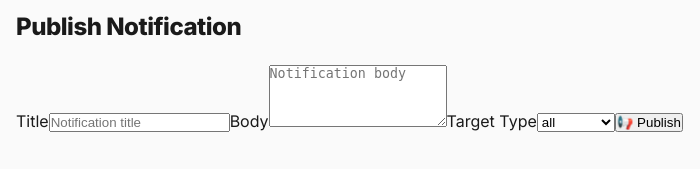
Test: AdminNotifications › publishes notification successfully
This screenshot has width=700, height=169.
In the field named "Notification title": (139, 122) left=49, top=113, right=230, bottom=132, type "Bus Update"
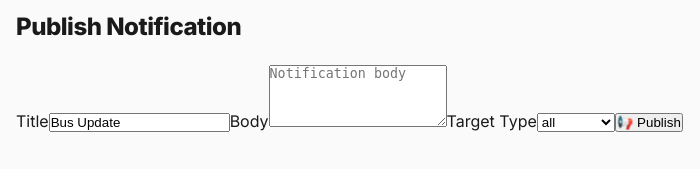
In the text box named "Notification body": (358, 96) left=269, top=65, right=447, bottom=127, type "Bus 3 delayed 10 min"
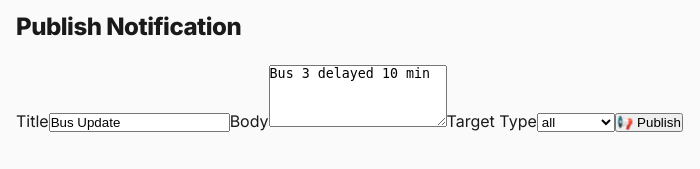
Click the button with test id "publish-btn": (649, 122) left=615, top=113, right=683, bottom=132
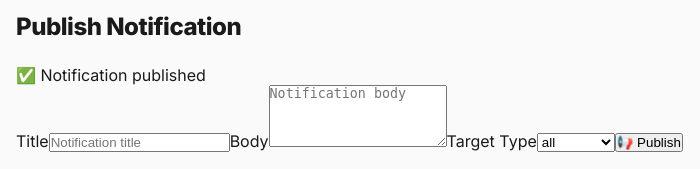
Expected: the text "✅ Notification published" is shown, left=16, top=65, right=206, bottom=85
